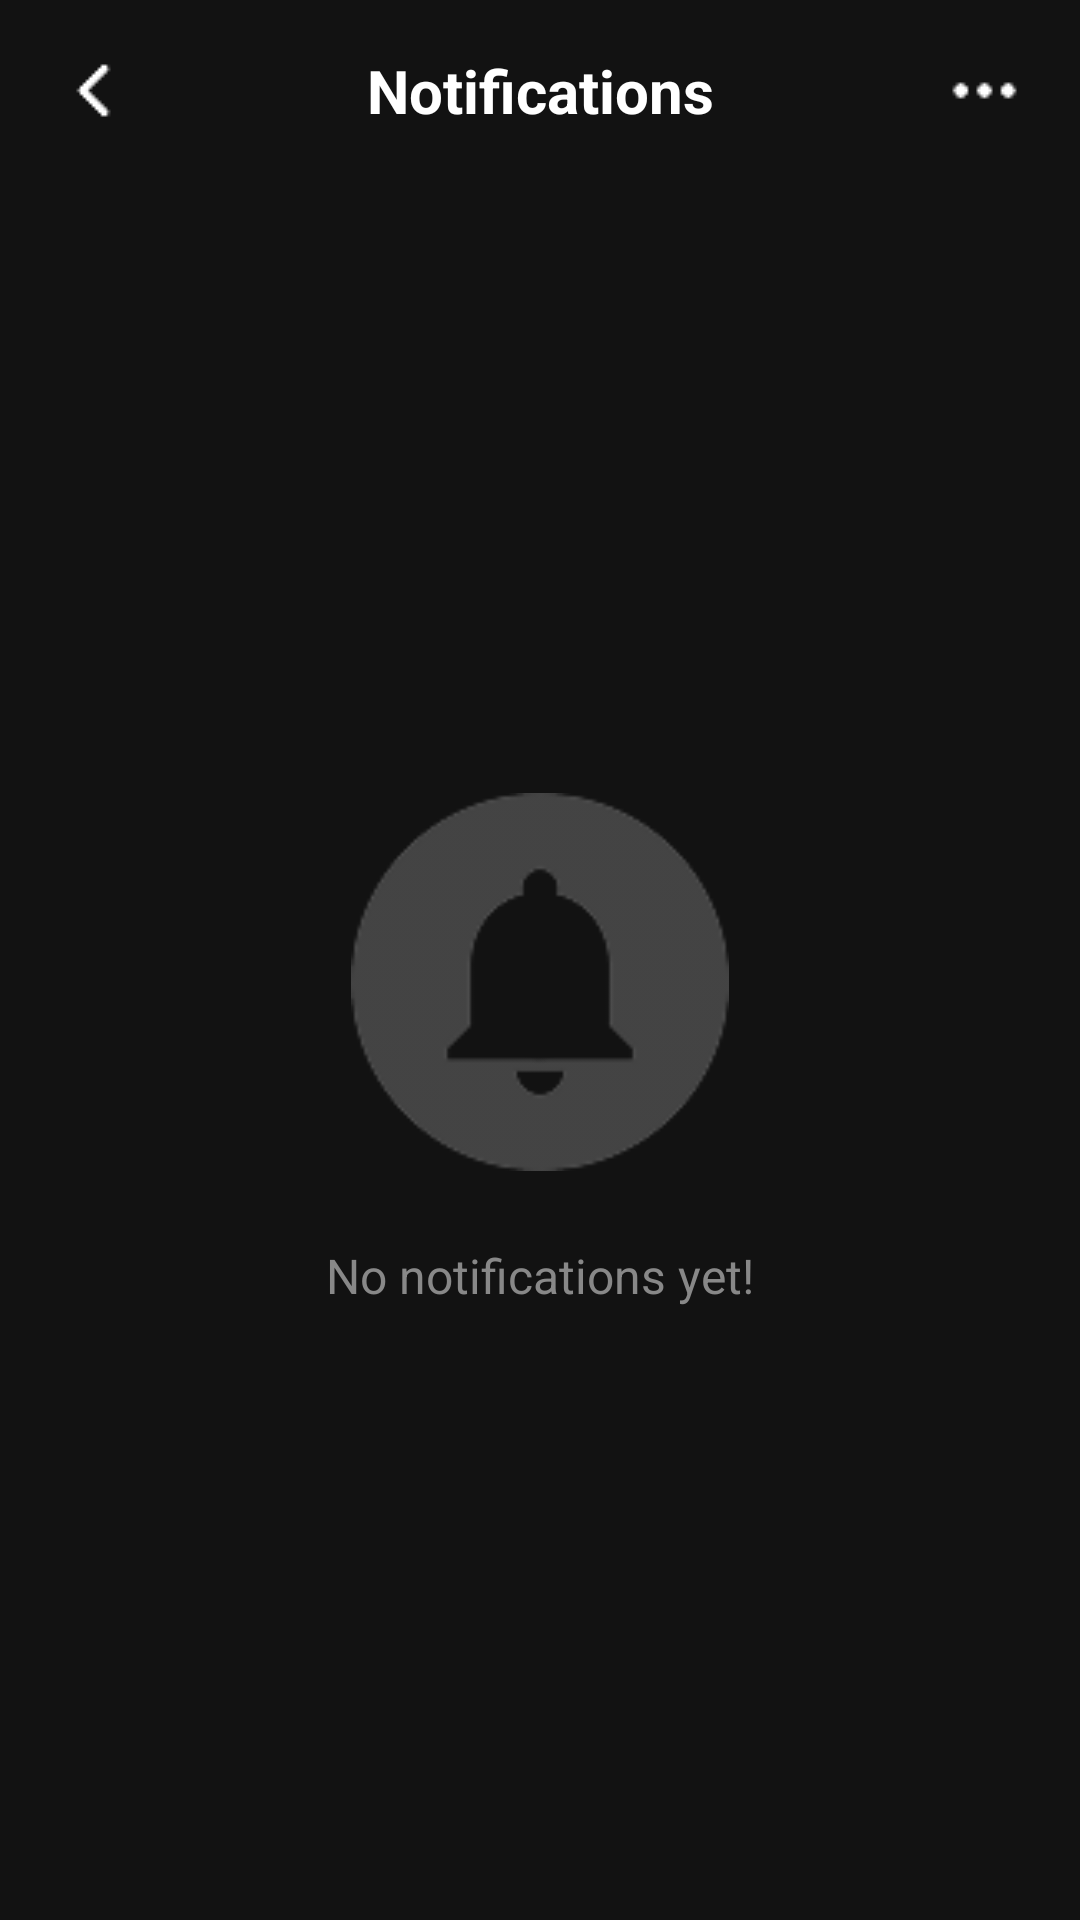

Screen size 1080w x 1920h. Icon name, then its box in pixels as [x1,y1,x2,y2]:
Back: [76,64,111,117]
Menu: [952,82,1017,99]
